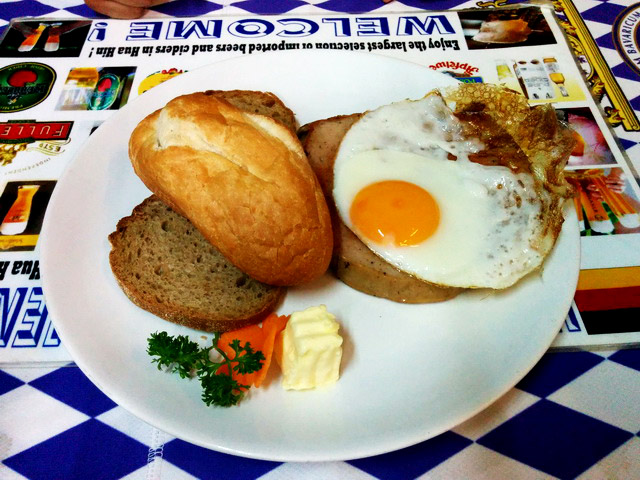fried egg: (342, 106, 549, 275)
slice of bread: (139, 93, 333, 276), (289, 96, 386, 319), (114, 206, 286, 321)
